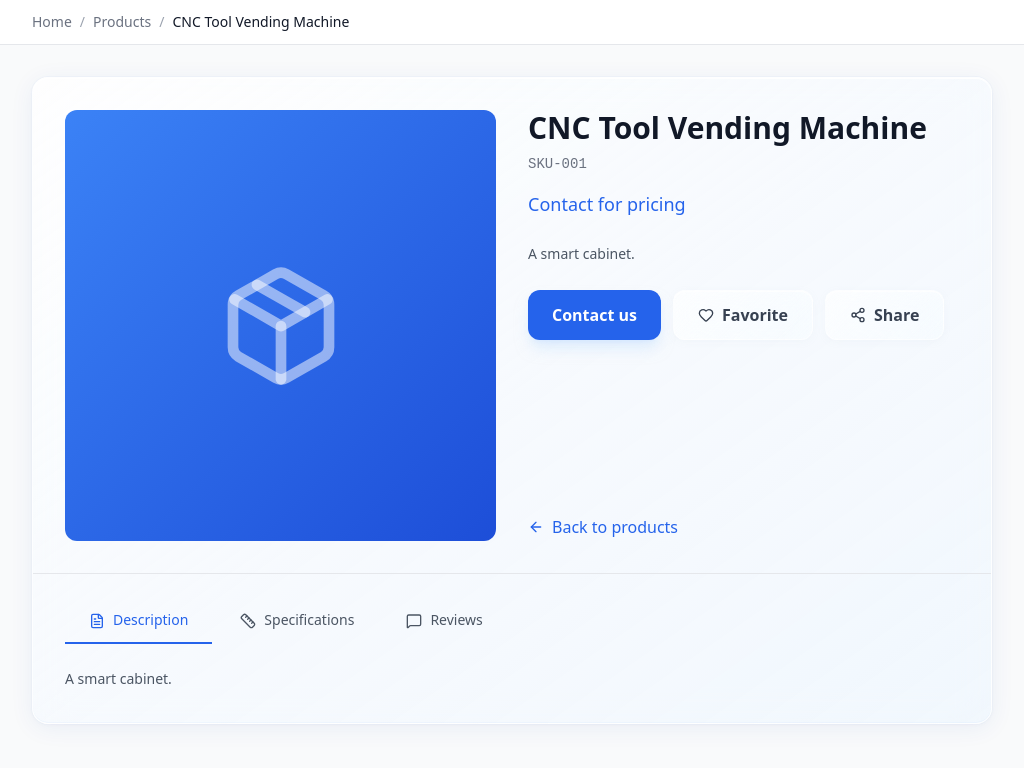
Test: P2 ProductDetailClient — specs render as a table › plain key-value object shape -> <table> rows
Click the button "Specifications" at (297, 621), box [216,598,378,644]
(page scrolled)
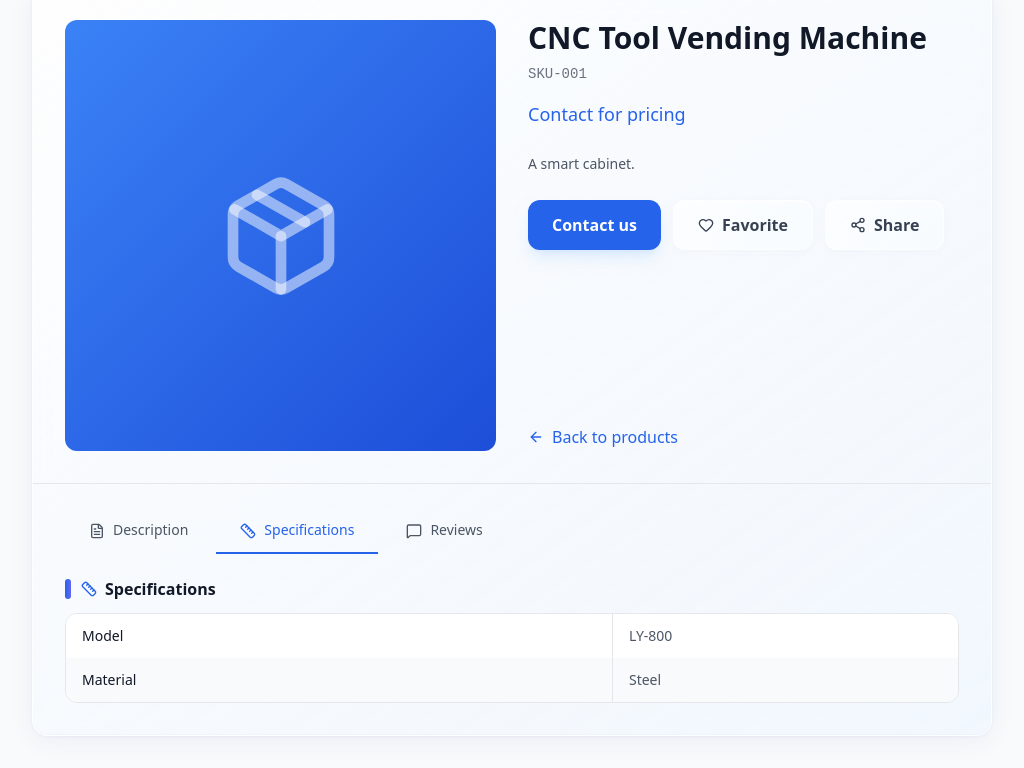
Now the text "Model" is shown, box [82,626,123,645]
Now the text "LY-800" is shown, box [612,614,958,658]
Now the text "Steel" is shown, box [612,658,958,702]
